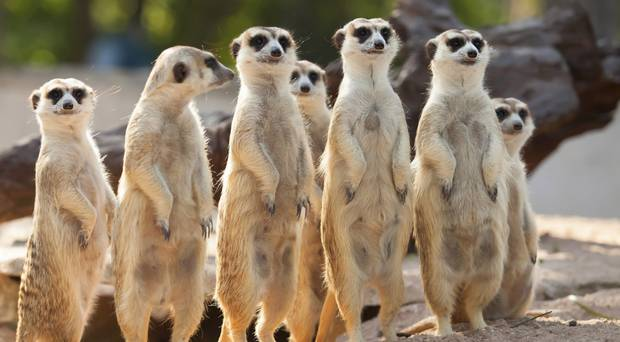meerkat: (410, 18, 529, 342), (217, 15, 316, 342), (20, 64, 120, 342)
